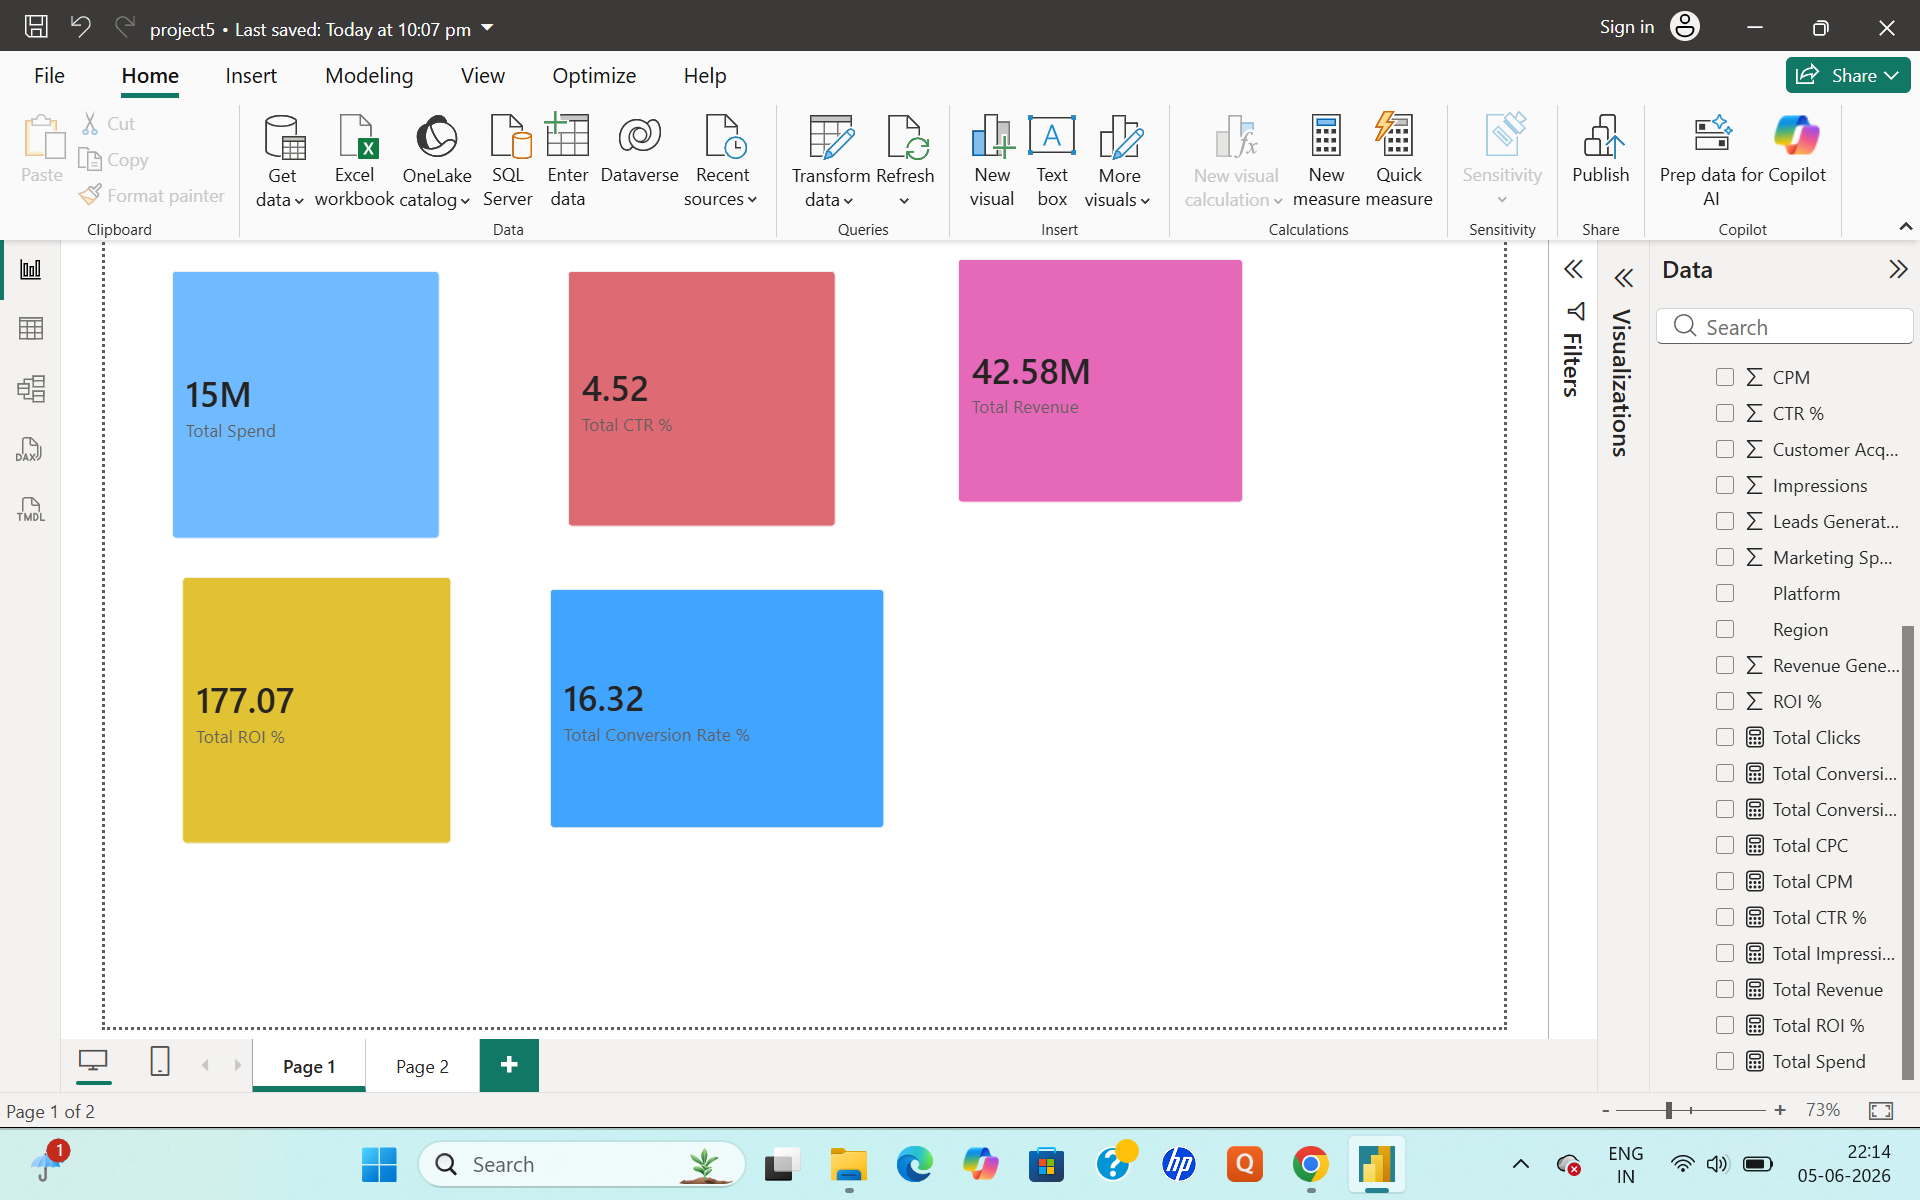

The dashboard page shown, as its layout file describes it:
{"tool":"powerbi","page":{"name":"Page 1","canvas":[1280,720],"ordinal":0},"visuals":[{"type":"cardVisual","fields":{"Data":["Marketing_Campaign_Cleaned.Total Spend"]},"box":[43.9,11,280,280],"z":0},{"type":"cardVisual","fields":{"Data":["Marketing_Campaign_Cleaned.Total ROI %"]},"box":[53,290.7,280.1,278.6],"z":1},{"type":"cardVisual","fields":{"Data":["Marketing_Campaign_Cleaned.Total CTR %"]},"box":[406.2,11,280,269],"z":2},{"type":"cardVisual","fields":{"Data":["Marketing_Campaign_Cleaned.Total Conversion Rate %"]},"box":[389.7,301.9,340.3,253.9],"z":3},{"type":"cardVisual","fields":{"Data":["Marketing_Campaign_Cleaned.Total Revenue"]},"box":[763,0,295.1,258],"z":4}]}

Visuals, with their boxes on the page's 1280x720 design canvas (x1, y1, x2, y2). These are canvas units, not pixel positions in the 1920x1200 screenshot, which may show the page scaled, cropped or inside an application window:
cardVisual - Marketing_Campaign_Cleaned.Total Spend: pyautogui.locateOnScreen(44, 11, 324, 291)
cardVisual - Marketing_Campaign_Cleaned.Total ROI %: pyautogui.locateOnScreen(53, 291, 333, 569)
cardVisual - Marketing_Campaign_Cleaned.Total CTR %: pyautogui.locateOnScreen(406, 11, 686, 280)
cardVisual - Marketing_Campaign_Cleaned.Total Conversion Rate %: pyautogui.locateOnScreen(390, 302, 730, 556)
cardVisual - Marketing_Campaign_Cleaned.Total Revenue: pyautogui.locateOnScreen(763, 0, 1058, 258)
